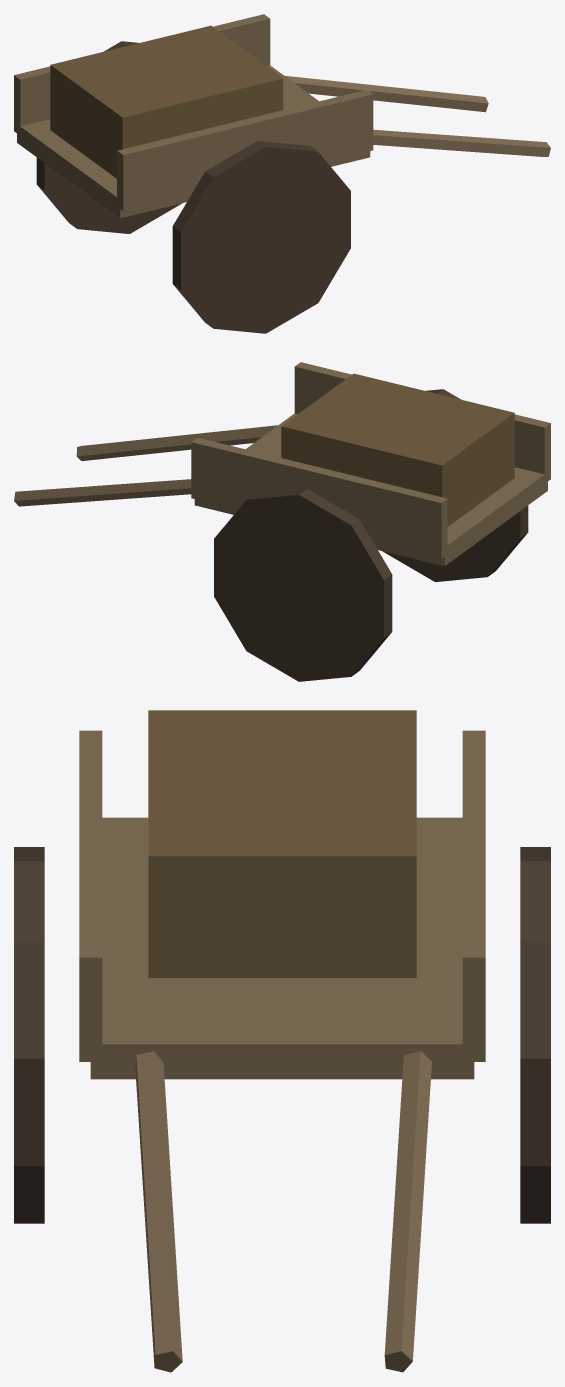
The model's file is cart.glb.
The picture shows the model from 3 angles, top to bottom: view 1: azimuth 30°, elevation 25°; view 2: azimuth 150°, elevation 25°; view 3: azimuth 270°, elevation 25°; orthographic projection. The views are drawn at different scales.
Visible parts, largest first — view 1: cart; view 2: cart; view 3: cart.
Boxes of the visible parts, box(x1,y1,x2,y2) form: cart: box(14, 14, 550, 333); cart: box(14, 362, 550, 681); cart: box(14, 710, 550, 1372).
Bounding box in the file's own units: 2.51 × 1.15 × 1.4.
